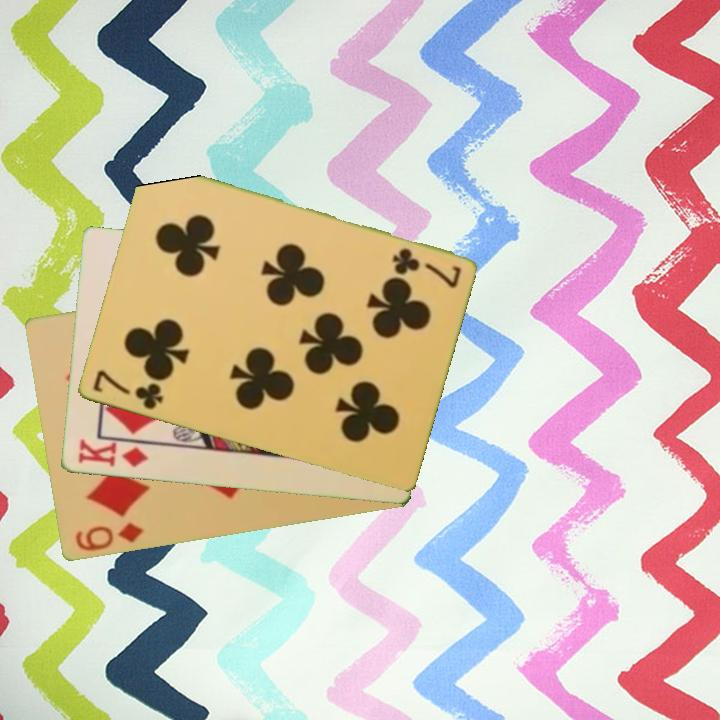6d: (71, 519, 146, 555)
7c: (88, 366, 166, 413), (388, 244, 464, 289)
Kd: (74, 436, 151, 471)
